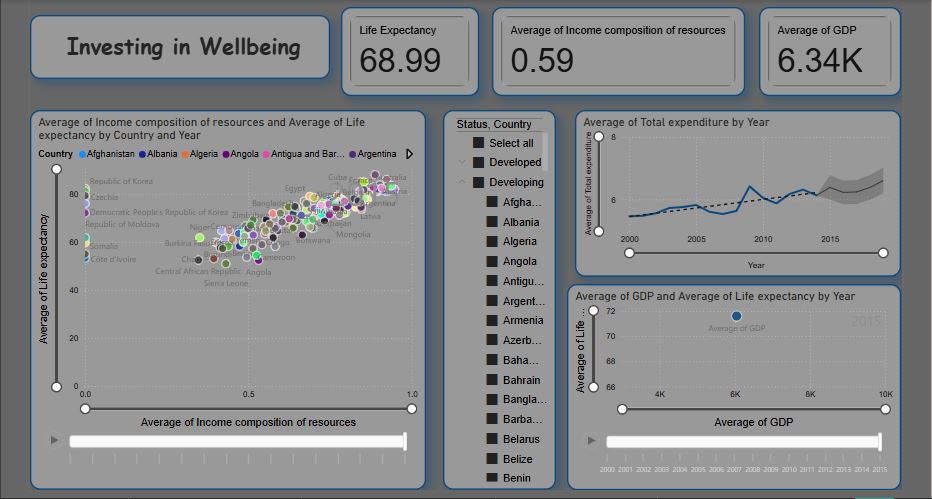

The page's visual inventory and layout, read from the dashboard file:
{"tool":"powerbi","page":{"name":"GDP and Expenditure impact","canvas":[1280,720],"ordinal":3},"visuals":[{"type":"slicer","fields":{"Values":["Life Expectancy Data.Status Hierarchy.Status","Life Expectancy Data.Status Hierarchy.Country"]},"box":[606.9,161.6,166,558.4],"z":0},{"type":"scatterChart","fields":{"Play":["Life Expectancy Data.Year.Variation.Date Hierarchy.Year"],"Y":["Avg(Life Expectancy Data.Life expectancy )"],"X":["Avg(Life Expectancy Data.GDP)"]},"box":[789.1,417.3,490.8,302.7],"z":1000},{"type":"lineChart","fields":{"Category":["Life Expectancy Data.Year.Variation.Date Hierarchy.Year"],"Y":["Avg(Life Expectancy Data.Total expenditure)"]},"box":[800.8,161.6,479,245.4],"z":2000},{"type":"scatterChart","fields":{"X":["Avg(Life Expectancy Data.Income composition of resources)"],"Y":["Avg(Life Expectancy Data.Life expectancy )"],"Series":["Life Expectancy Data.Country"],"Play":["Life Expectancy Data.Year.Variation.Date Hierarchy.Year"]},"box":[0,161.6,581.9,558.4],"z":3000},{"type":"cardVisual","fields":{"Data":["Life Expectancy Data.Life Expectancy"]},"box":[457,10.3,202.8,130.8],"z":4000},{"type":"cardVisual","fields":{"Data":["Avg(Life Expectancy Data(WHO).Income composition of resources)"]},"box":[678.9,10.3,371.8,130.8],"z":5000},{"type":"cardVisual","fields":{"Data":["Avg(Life Expectancy Data(WHO).GDP)"]},"box":[1071.2,10.3,208.7,130.8],"z":6000},{"type":"textbox","box":[0,22,440.8,94],"z":7000}]}

Visuals, with their boxes on the page's 1280x720 design canvas (x1, y1, x2, y2). These are canvas units, not pixel positions in the 932x499 screenshot, which may show the page scaled, cropped or inside an application window:
slicer - Life Expectancy Data.Status Hierarchy.Status x Life Expectancy Data.Status Hierarchy.Country: left=607, top=162, right=773, bottom=720
scatterChart - Life Expectancy Data.Year.Variation.Date Hierarchy.Year x Avg(Life Expectancy Data.Life expectancy ): left=789, top=417, right=1280, bottom=720
lineChart - Life Expectancy Data.Year.Variation.Date Hierarchy.Year x Avg(Life Expectancy Data.Total expenditure): left=801, top=162, right=1280, bottom=407
scatterChart - Avg(Life Expectancy Data.Income composition of resources) x Avg(Life Expectancy Data.Life expectancy ): left=0, top=162, right=582, bottom=720
cardVisual - Life Expectancy Data.Life Expectancy: left=457, top=10, right=660, bottom=141
cardVisual - Avg(Life Expectancy Data(WHO).Income composition of resources): left=679, top=10, right=1051, bottom=141
cardVisual - Avg(Life Expectancy Data(WHO).GDP): left=1071, top=10, right=1280, bottom=141
textbox: left=0, top=22, right=441, bottom=116
